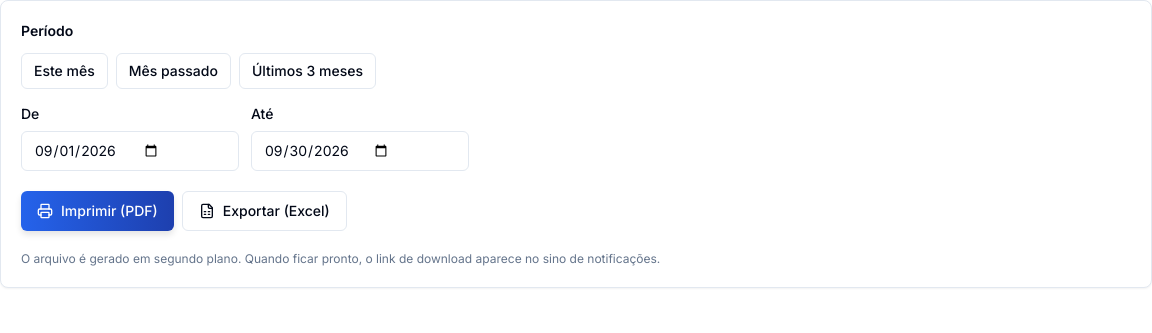
Test: ReportExportForm › bloqueia intervalo invertido
This screenshot has width=1152, height=333.
Step 1. Type "2026-06-10" into the date field labelled "De" → (130, 151), box top-left (21, 131), bottom-right (239, 171)
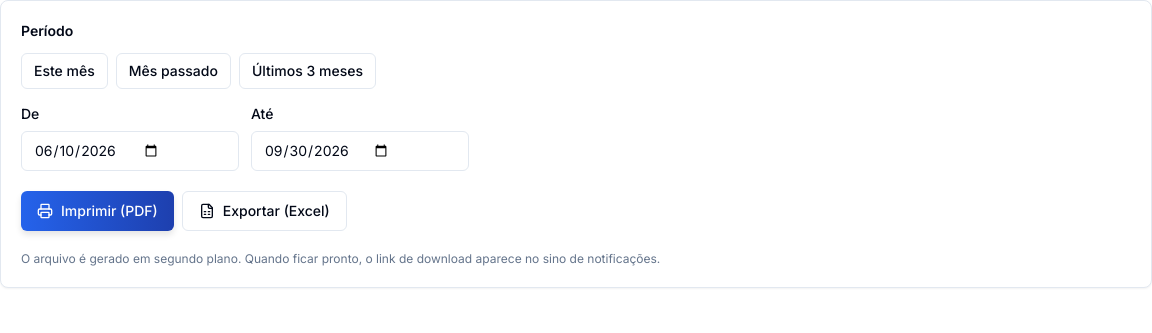
Step 2. Type "2026-06-01" into the date field labelled "Até" → (360, 151), box top-left (251, 131), bottom-right (469, 171)
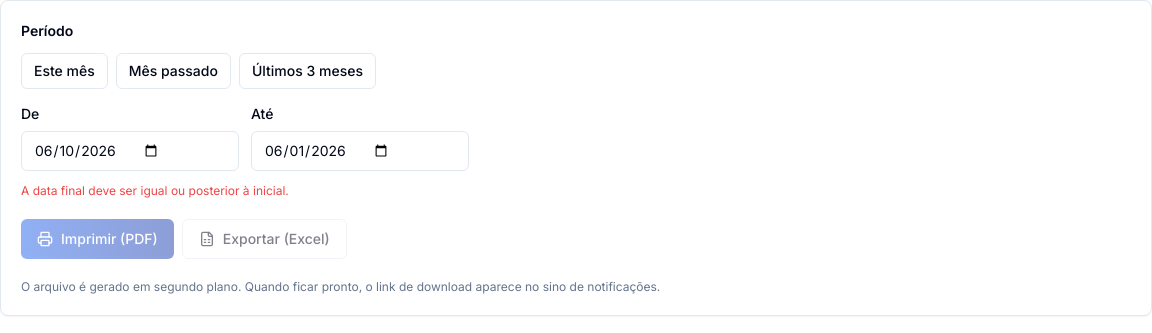
Expected: the button "Imprimir (PDF)" is disabled, top-left (21, 219), bottom-right (174, 259)
